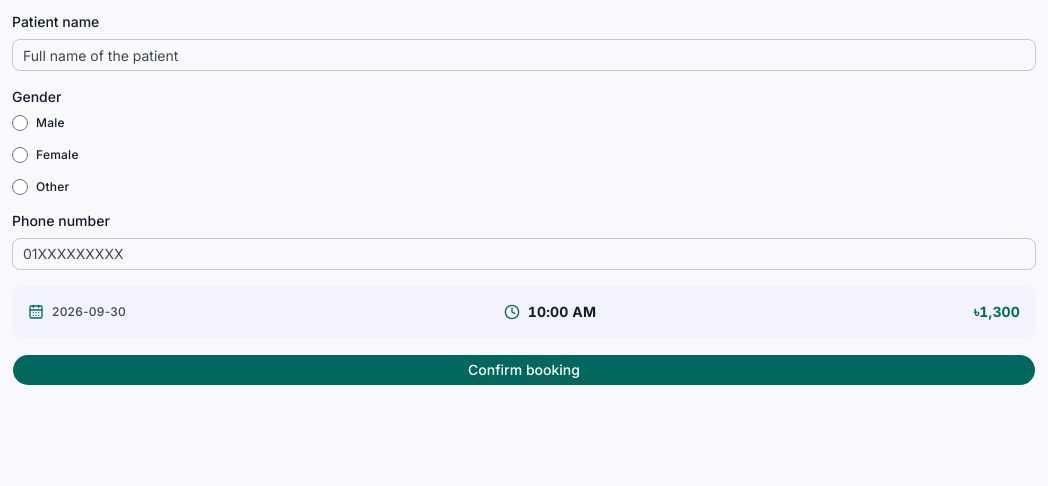
it: BookingForm › shows required-field errors when submitted empty
Click the button "Confirm booking" at (524, 370), box [12,354,1036,386]
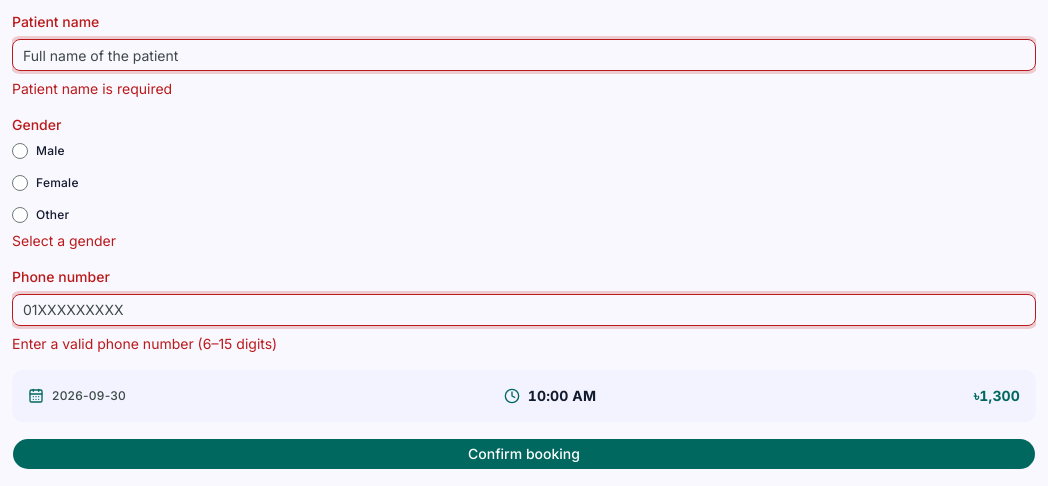
Expected: the text "Patient name is required" is shown, [12,80,172,97]
Expected: the text "Select a gender" is shown, [12,232,116,248]
Expected: the text "Enter a valid phone number (6–15 digits)" is shown, [12,335,277,352]
